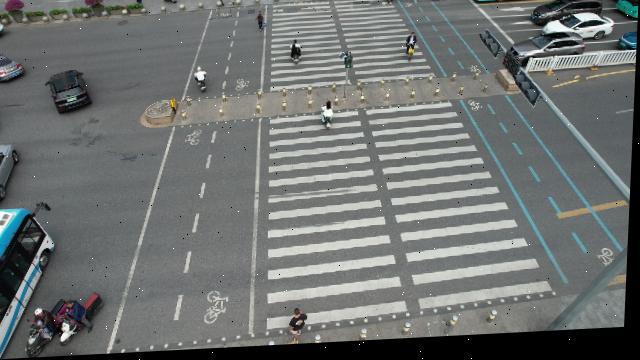non-motor-vehicle: (28, 295, 71, 358), (65, 290, 105, 348), (194, 67, 211, 94), (288, 42, 303, 68), (322, 106, 334, 133), (406, 42, 419, 66), (161, 0, 178, 6), (387, 0, 398, 8)
person: (289, 310, 311, 344), (254, 15, 265, 34), (132, 0, 145, 6), (227, 0, 234, 8), (216, 0, 225, 3), (336, 0, 345, 2), (236, 0, 242, 0)
